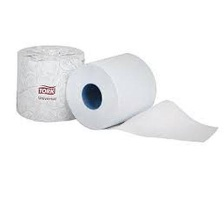tissue: (60, 47, 224, 146), (10, 40, 88, 126)
